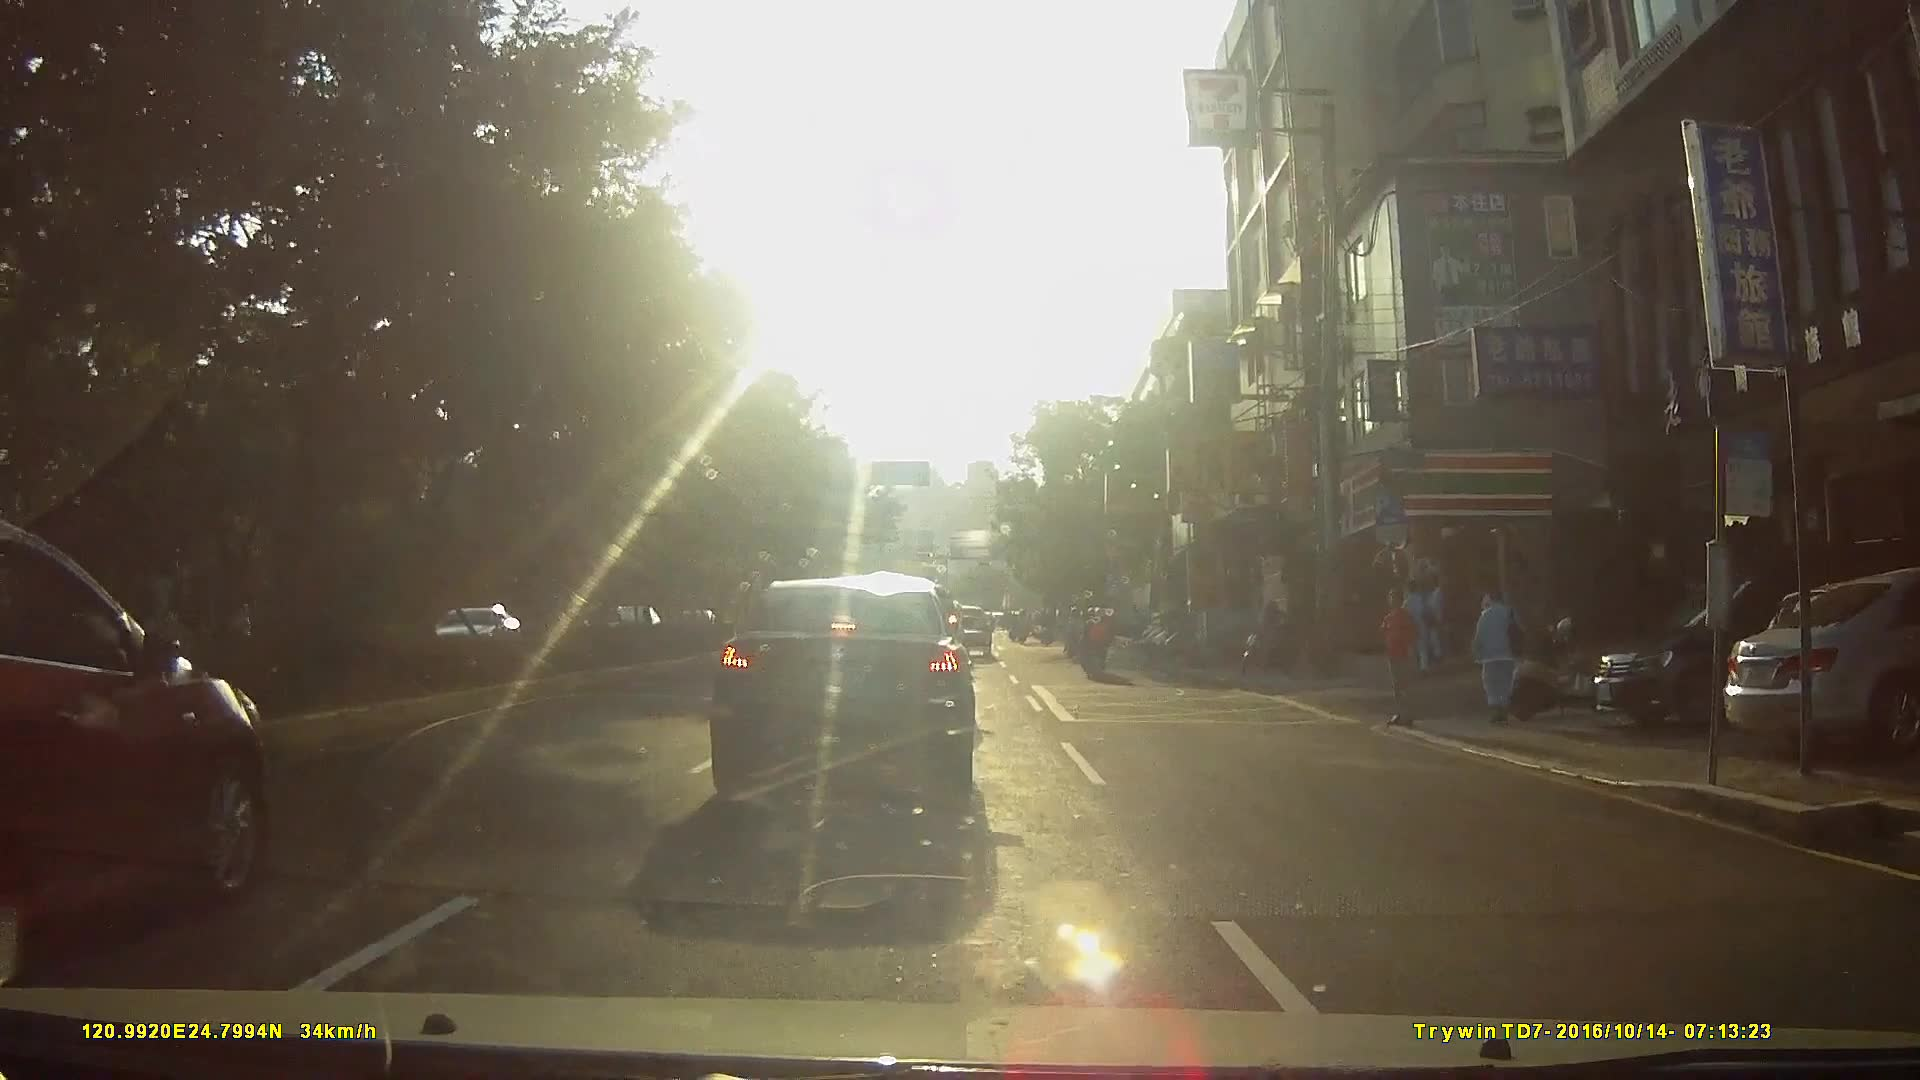pedestrian: (1465, 585, 1527, 723), (1382, 589, 1420, 732)
rider: (1076, 604, 1114, 681), (1062, 605, 1087, 659)
vehicle: (1, 507, 279, 955), (1584, 557, 1915, 737), (705, 574, 990, 773), (1708, 571, 1920, 759)
